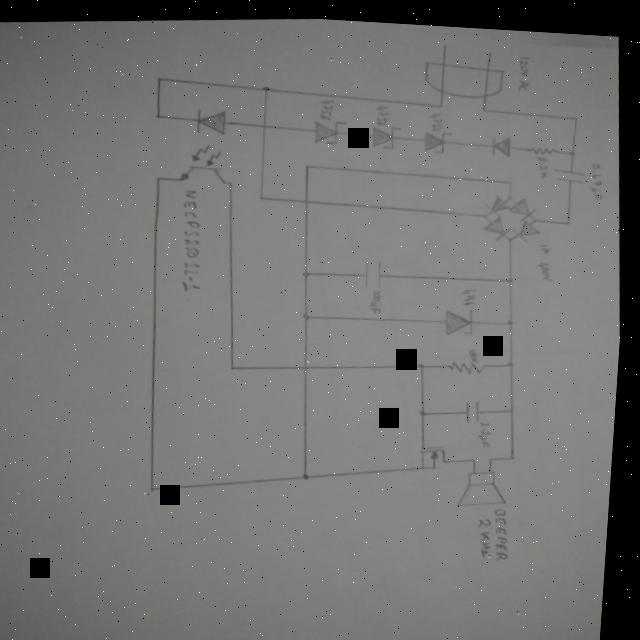capacitor: (552, 157, 589, 181), (363, 254, 390, 285), (464, 392, 490, 418)
crossover: (260, 117, 269, 127), (305, 358, 315, 367), (304, 194, 313, 201)
diode: (446, 300, 484, 331), (310, 115, 350, 143), (371, 120, 405, 145), (423, 124, 454, 149), (511, 189, 539, 215), (513, 212, 543, 236), (485, 210, 513, 235), (490, 129, 514, 153), (486, 188, 512, 209)
junction: (260, 80, 271, 90), (303, 308, 316, 316), (422, 403, 433, 412), (306, 467, 317, 476), (508, 311, 518, 320), (153, 482, 162, 492), (304, 264, 313, 274), (509, 269, 518, 278), (420, 356, 430, 364), (155, 110, 165, 117), (569, 142, 577, 150), (260, 190, 268, 198), (532, 210, 541, 217), (155, 73, 164, 80), (510, 355, 518, 362), (566, 212, 574, 219), (437, 97, 445, 104), (232, 361, 240, 368), (514, 447, 522, 454), (481, 100, 489, 106), (304, 159, 312, 165), (508, 229, 515, 235), (572, 108, 579, 114), (508, 173, 514, 179), (509, 188, 515, 194), (513, 401, 519, 406), (484, 208, 490, 213), (158, 173, 164, 178), (493, 451, 499, 455), (476, 451, 482, 455), (229, 177, 235, 181)
resistor: (451, 353, 490, 371), (527, 138, 559, 149)
terminal: (487, 44, 493, 50), (441, 36, 447, 42)
text: (177, 186, 209, 290), (496, 500, 517, 557), (480, 509, 502, 555), (586, 154, 606, 194), (514, 48, 533, 87), (368, 283, 387, 309), (538, 253, 558, 277), (481, 413, 498, 441), (318, 94, 336, 117), (462, 280, 481, 301), (536, 148, 551, 172), (374, 100, 391, 121), (428, 107, 443, 126), (471, 341, 483, 358), (540, 235, 554, 248)
transistor: (422, 437, 454, 467)
